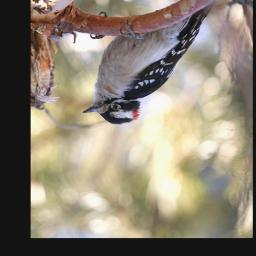Woodpecker: (82, 0, 213, 124)
